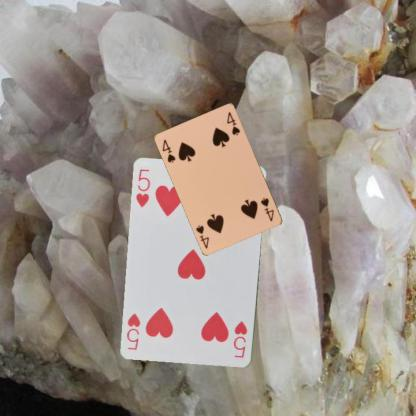4s: (258, 196, 276, 223), (160, 137, 177, 164)
5h: (133, 166, 152, 210), (231, 319, 249, 359)
